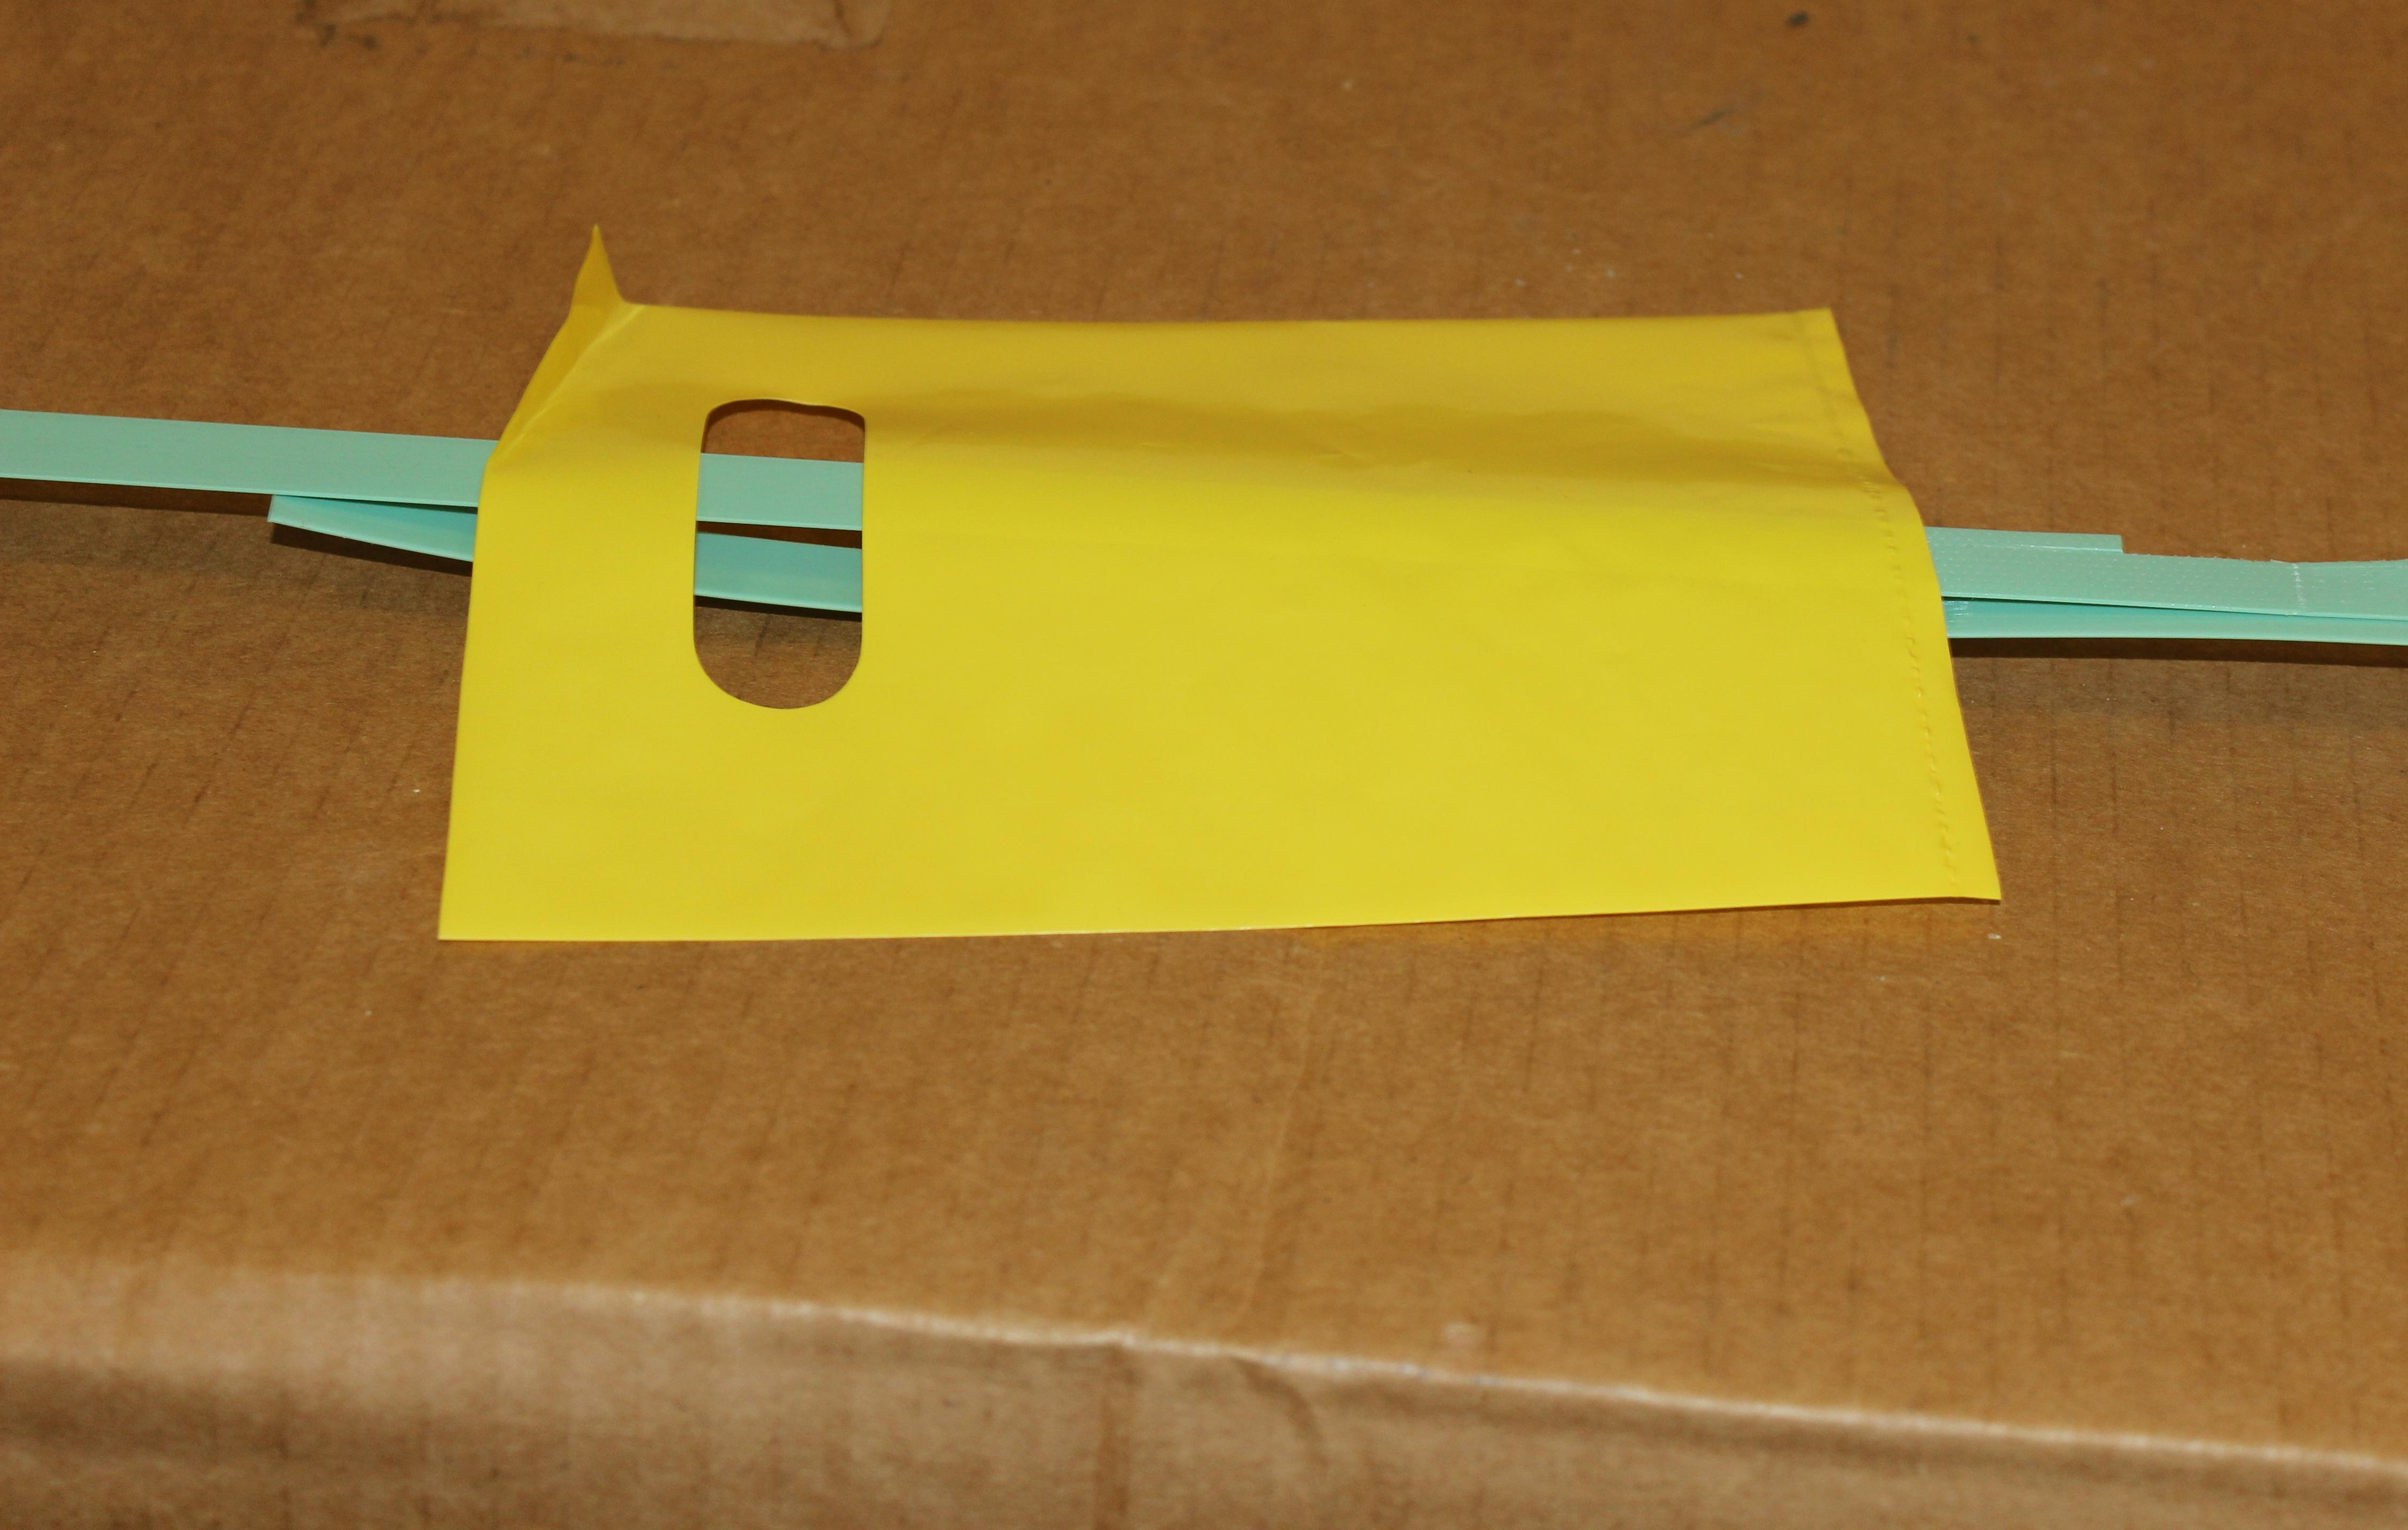yellowBag: (369, 200, 2060, 995)
